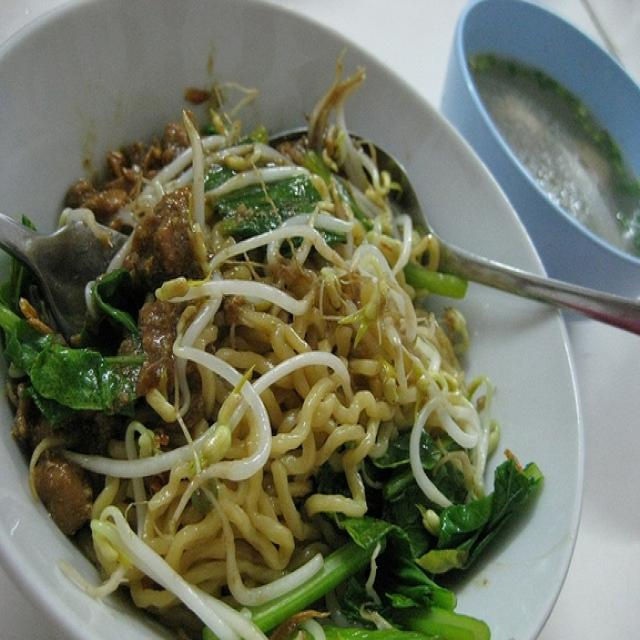面条主食: (20, 14, 589, 588)
